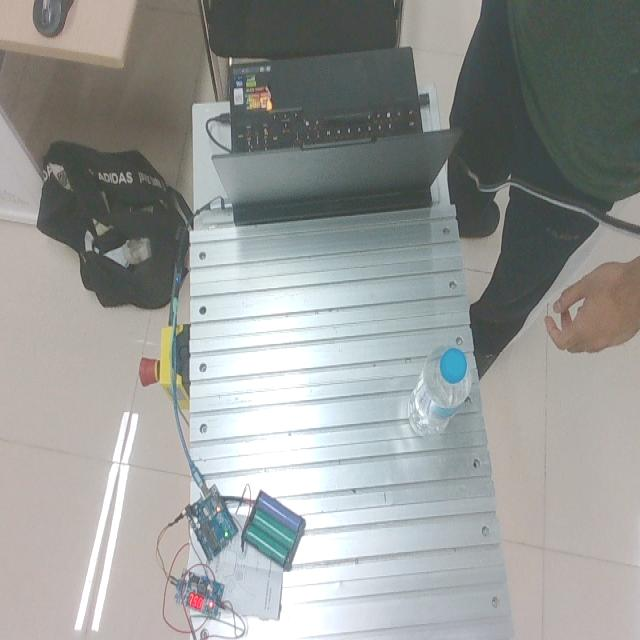lavie: (406, 341, 471, 436)
